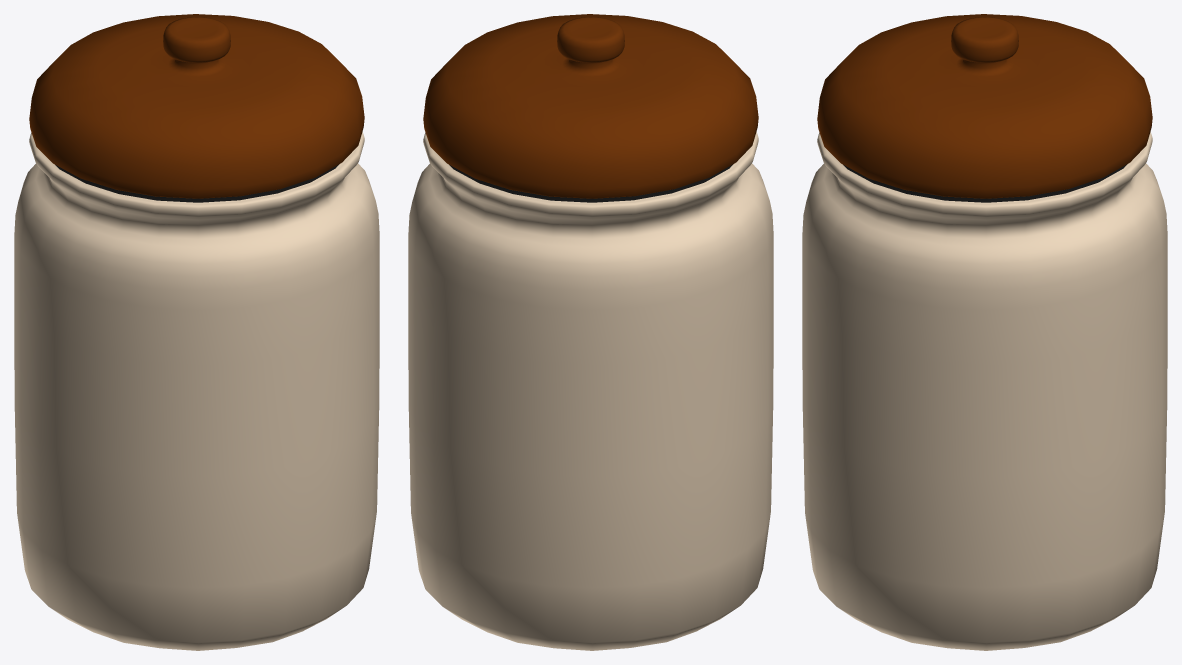
File: JarSmall_Final.fbx
3 renders of one model, left to right at view 1: azimuth 30°, elevation 25°; view 2: azimuth 150°, elevation 25°; view 3: azimuth 270°, elevation 25°, orthographic.
Parts seen in each view (by area): view 1: Jar_.003; view 2: Jar_.003; view 3: Jar_.003.
Boxes of the visible parts, x1,y1,x2,y2 form: Jar_.003: [14, 14, 379, 650]; Jar_.003: [408, 14, 773, 650]; Jar_.003: [802, 14, 1167, 650].
Bounding box in the file's own units: 84.02 × 143 × 84.02.
